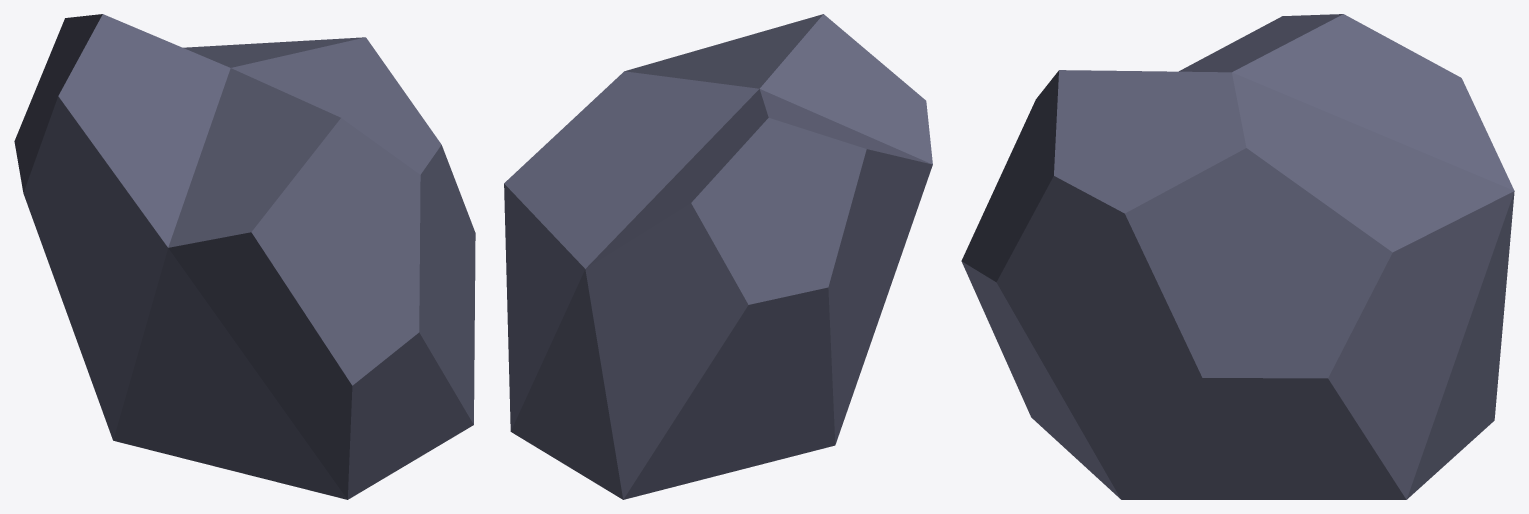
Rendered from RockThree.fbx.
The picture shows the model from 3 angles, left to right: view 1: azimuth 30°, elevation 25°; view 2: azimuth 150°, elevation 25°; view 3: azimuth 270°, elevation 25°; orthographic projection. The views are drawn at different scales.
Parts seen in each view (by area): view 1: Icosphere.002; view 2: Icosphere.002; view 3: Icosphere.002.
Boxes of the visible parts, x1,y1,x2,y2 form: Icosphere.002: (14, 14, 475, 499); Icosphere.002: (504, 14, 932, 499); Icosphere.002: (961, 14, 1514, 499).
Bounding box in the file's own units: 223 × 220 × 299.
